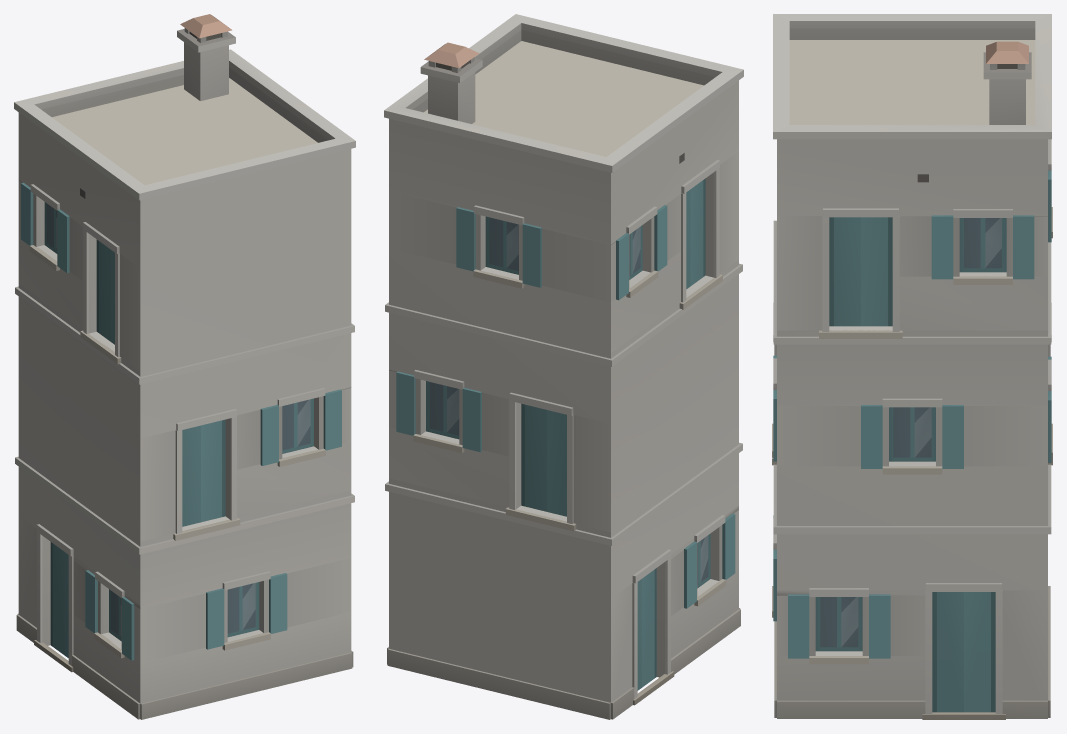
3 views of the same model, side by side, from view 1: azimuth 30°, elevation 25°; view 2: azimuth 150°, elevation 25°; view 3: azimuth 270°, elevation 25° (orthographic). The views are drawn at different scales.
Bounding box in the file's own units: 4.43 × 11.3 × 4.43.
